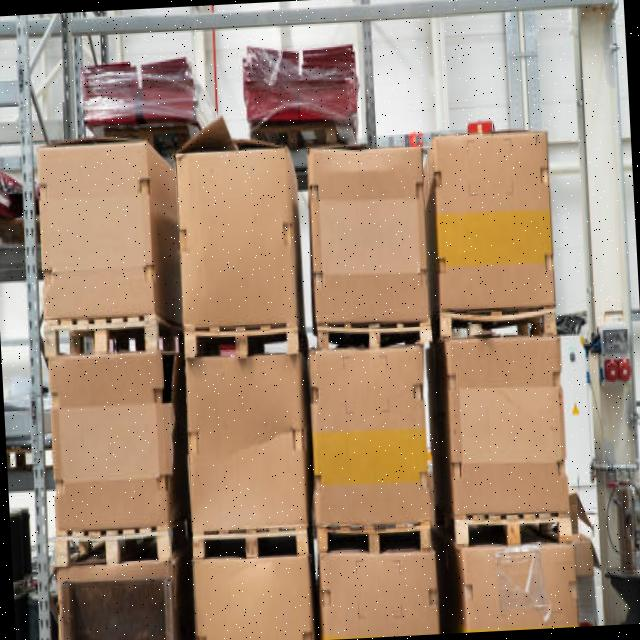Wooden-Pallets: (53, 519, 177, 568), (43, 310, 162, 360), (448, 508, 572, 553), (184, 522, 310, 566), (184, 320, 298, 360), (318, 522, 431, 558), (316, 320, 432, 352)
